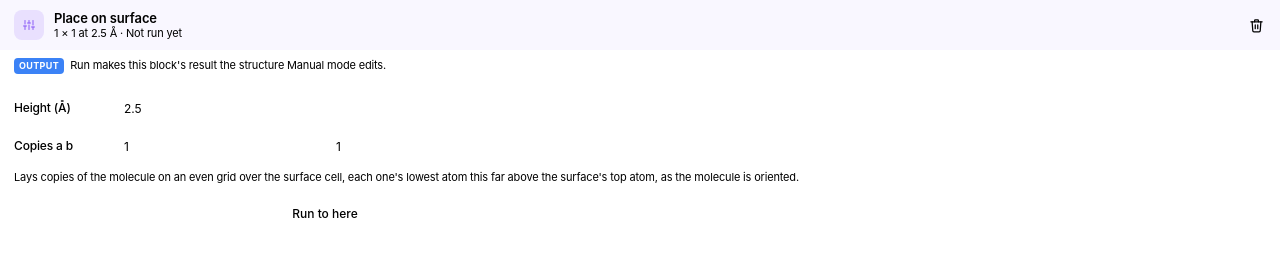
Scenario: number boxes › checks how molecules sit on a surface
Replace the text in the number field with test id "builder-flow-adsorb-grid-0" with "0" at (220, 146), box [116, 132, 324, 160]
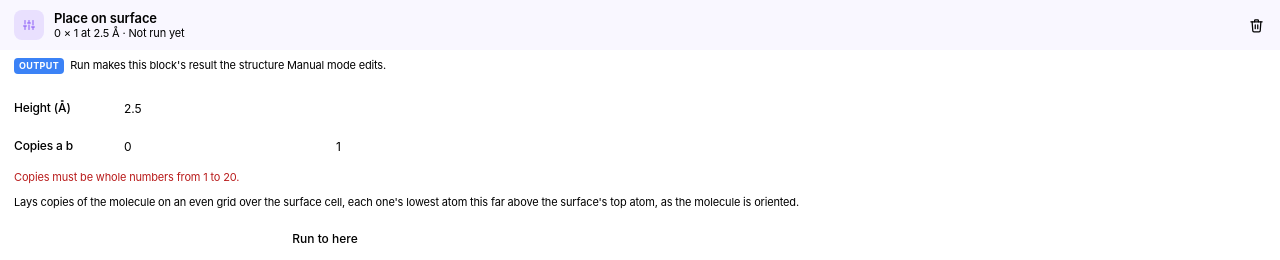
Expected: the message with test id "builder-flow-builtin-problem" shows "Copies", [14, 170, 239, 184]
